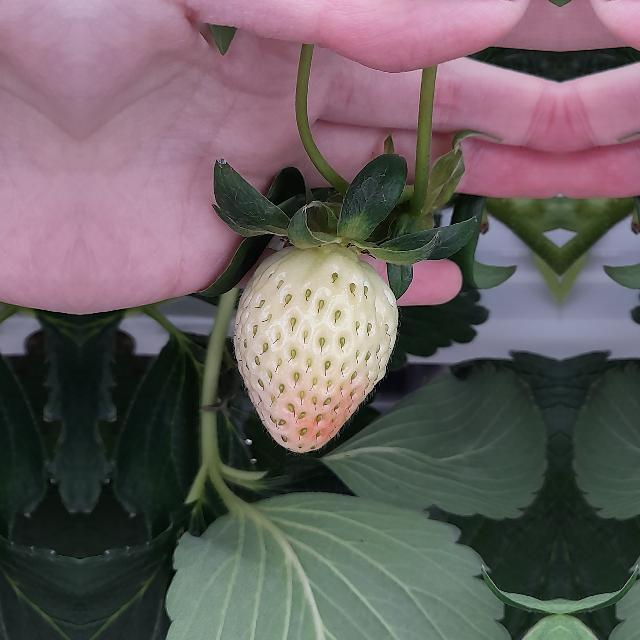Health_50: (234, 243, 398, 452)
